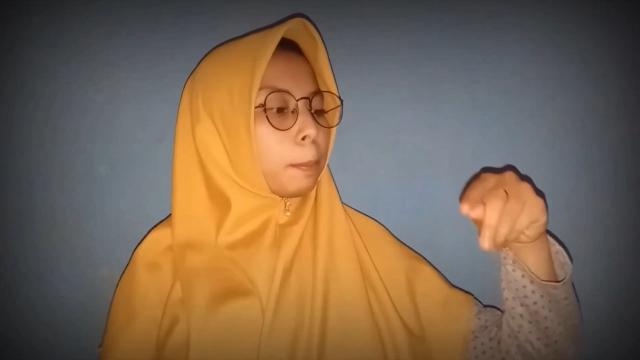P: (456, 165, 548, 258)
